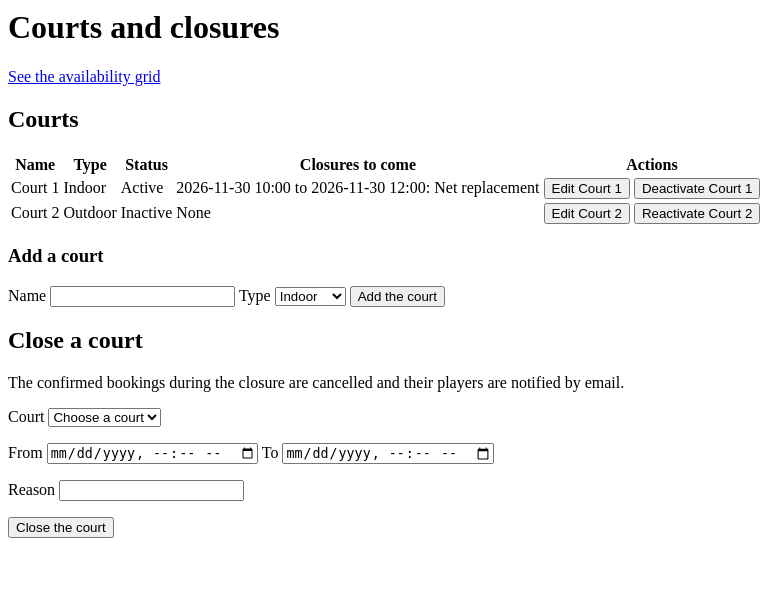
it: Courts and closures page › adds a court with its name and type
This screenshot has width=777, height=589.
Expected: the cell "Court 1" is shown, [10,177,60,200]
In the field labelled "Name": (143, 297) [50,286,235,307], type "Court 3"
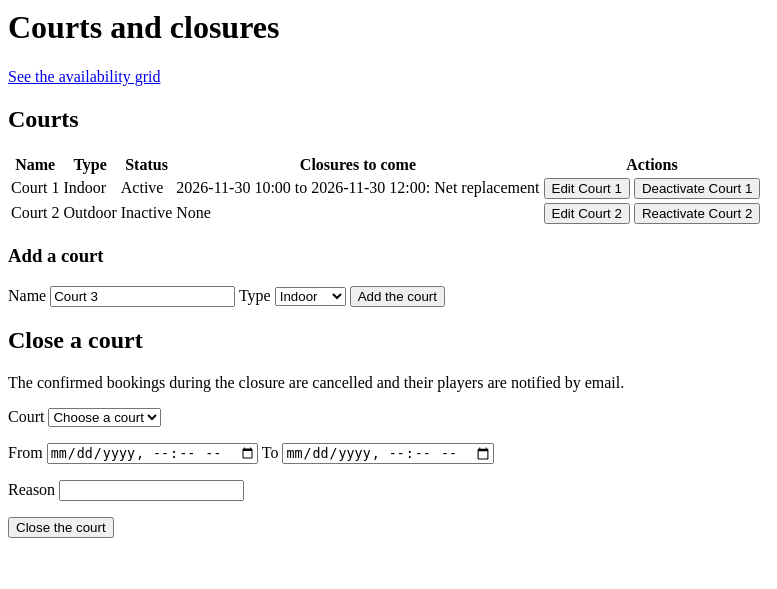
Select "Outdoor" in the dropdown labelled "Type": (310, 297) [275,287,346,306]
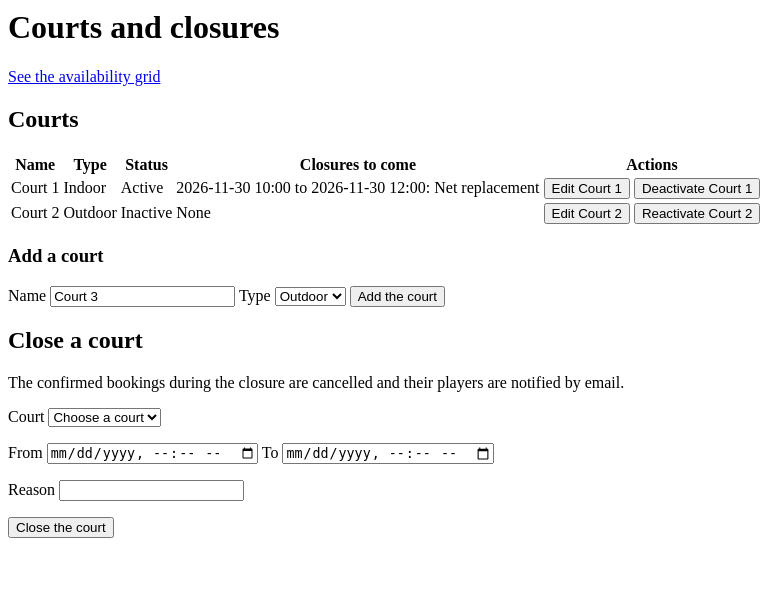
Click the button "Add the court": click(397, 297) [350,286,445,307]
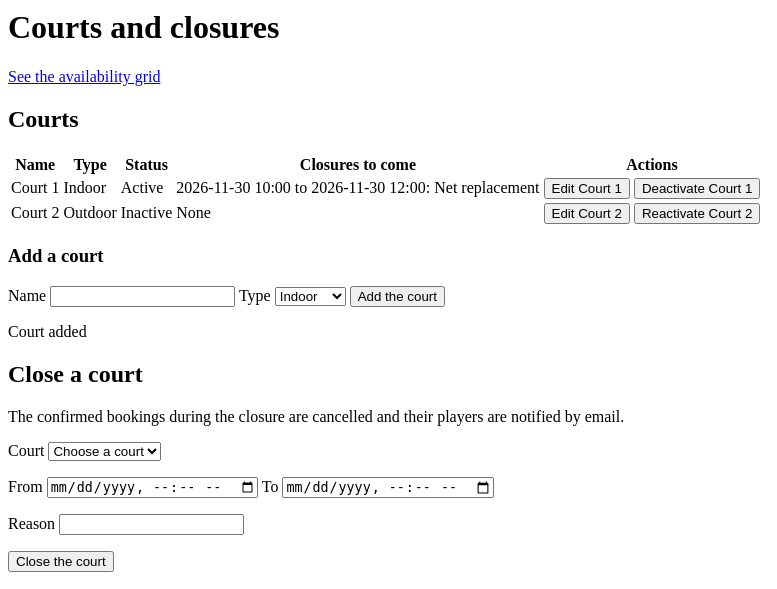
Expected: the message reads "Court added", [8,323,87,340]
